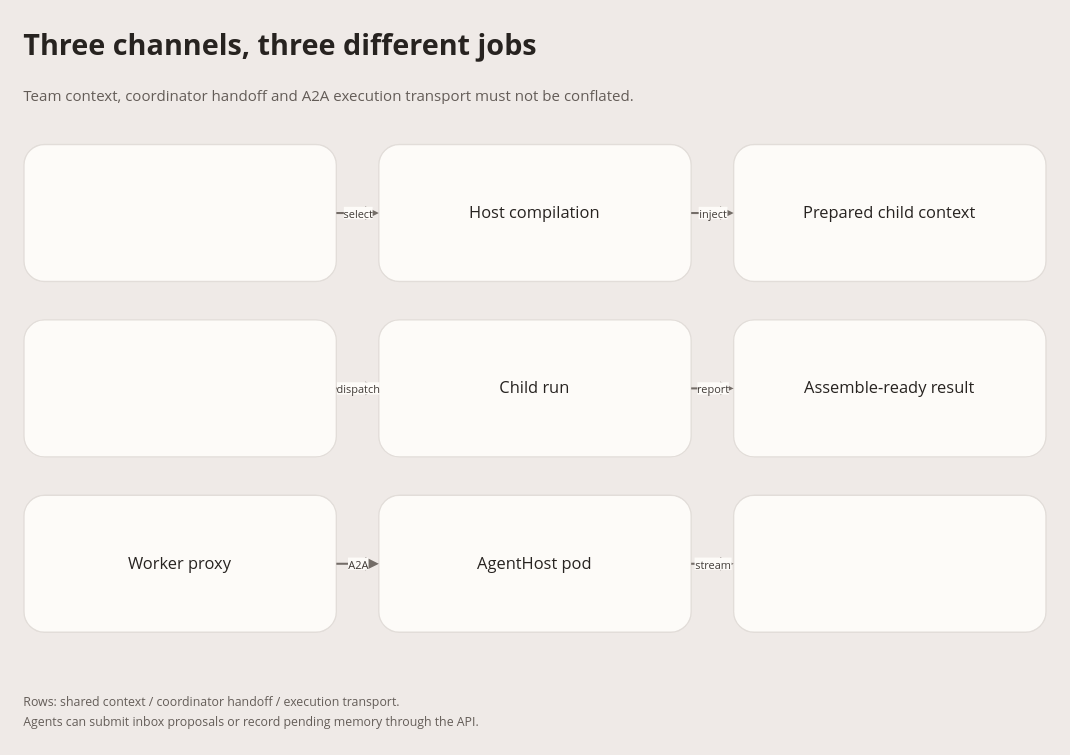
Image size: 1070x755. Some labels were removed from this diagram. The shapes that lost their labels are listed below. From the top down, each one's box as (x1, y1, x2, y2) in pixels, then its label:
(23, 143, 336, 282): Project state API
(23, 319, 336, 457): Coordinator
(732, 494, 1046, 632): Returned stream
